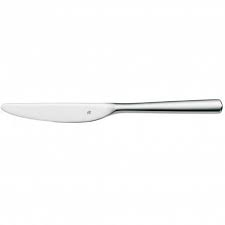knife: (1, 94, 223, 124)
